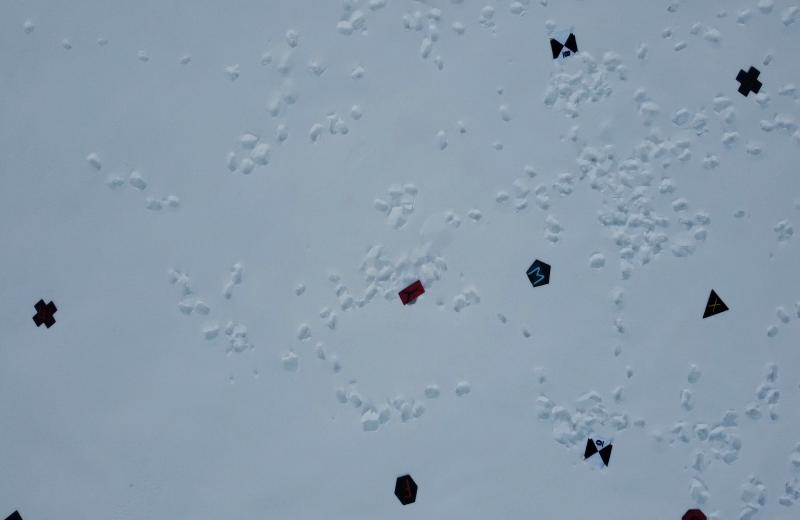Cross: (32, 294, 59, 328), (734, 66, 762, 98)
Hexagon: (391, 472, 421, 507)
Octagon: (677, 504, 713, 520)
Pentagon: (522, 256, 554, 292)
Rectangle: (394, 280, 428, 306)
Triangle: (700, 290, 728, 322)
